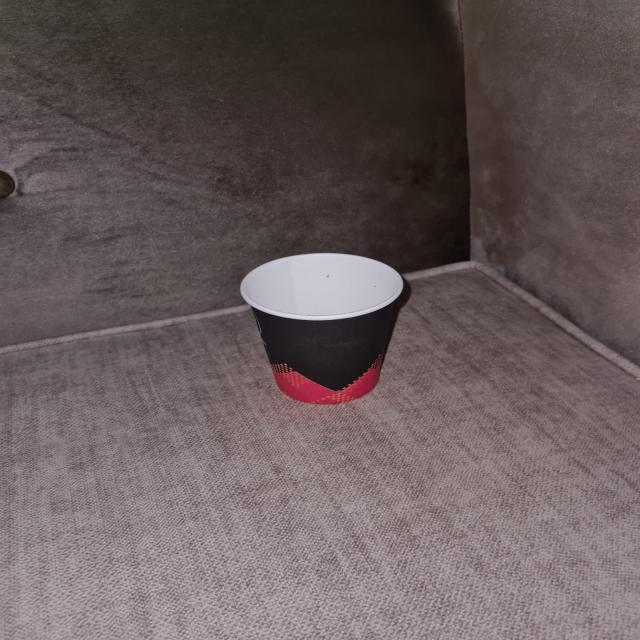cups: (246, 251, 408, 403)
